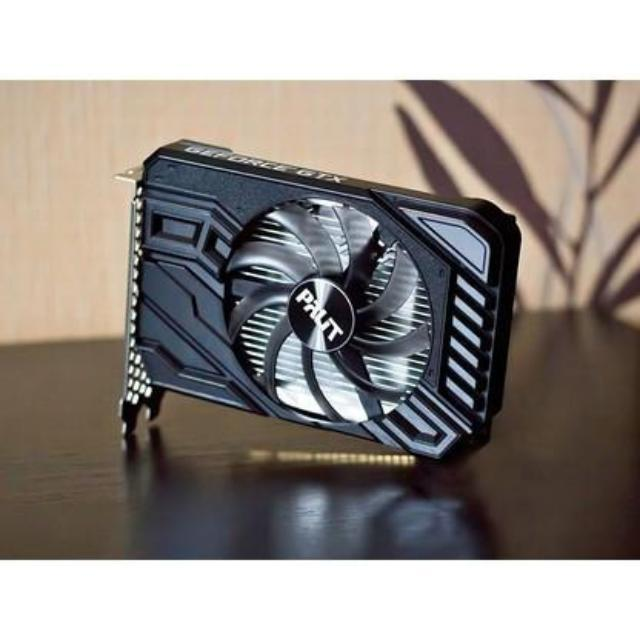GPU: (107, 123, 522, 471)
